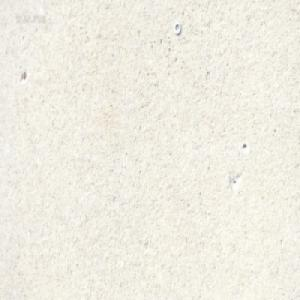Washer: (173, 21, 181, 35)
